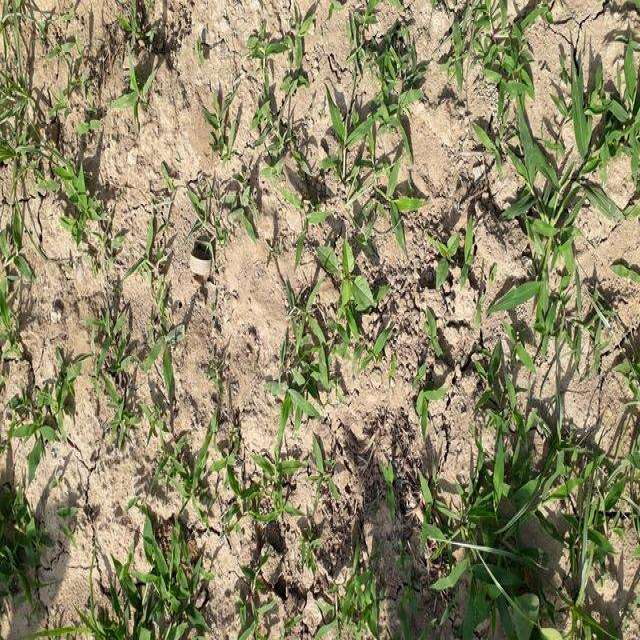weed: (443, 5, 640, 368), (397, 405, 640, 640), (255, 83, 390, 411), (70, 504, 218, 640)
